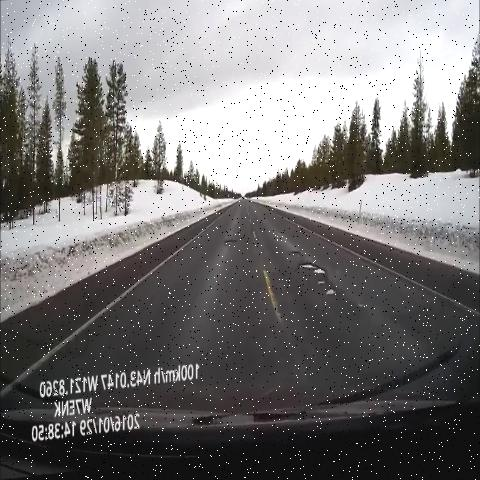pothole: (284, 245, 347, 328), (218, 232, 246, 263)
